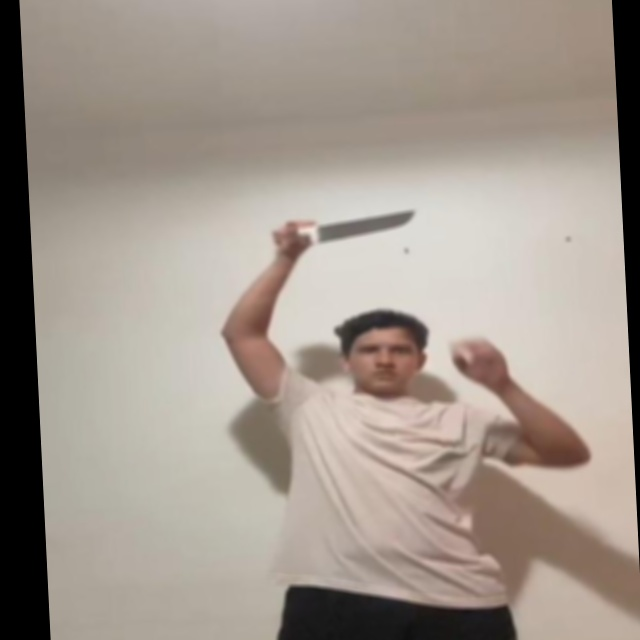Sharp-Object: (312, 207, 419, 243)
